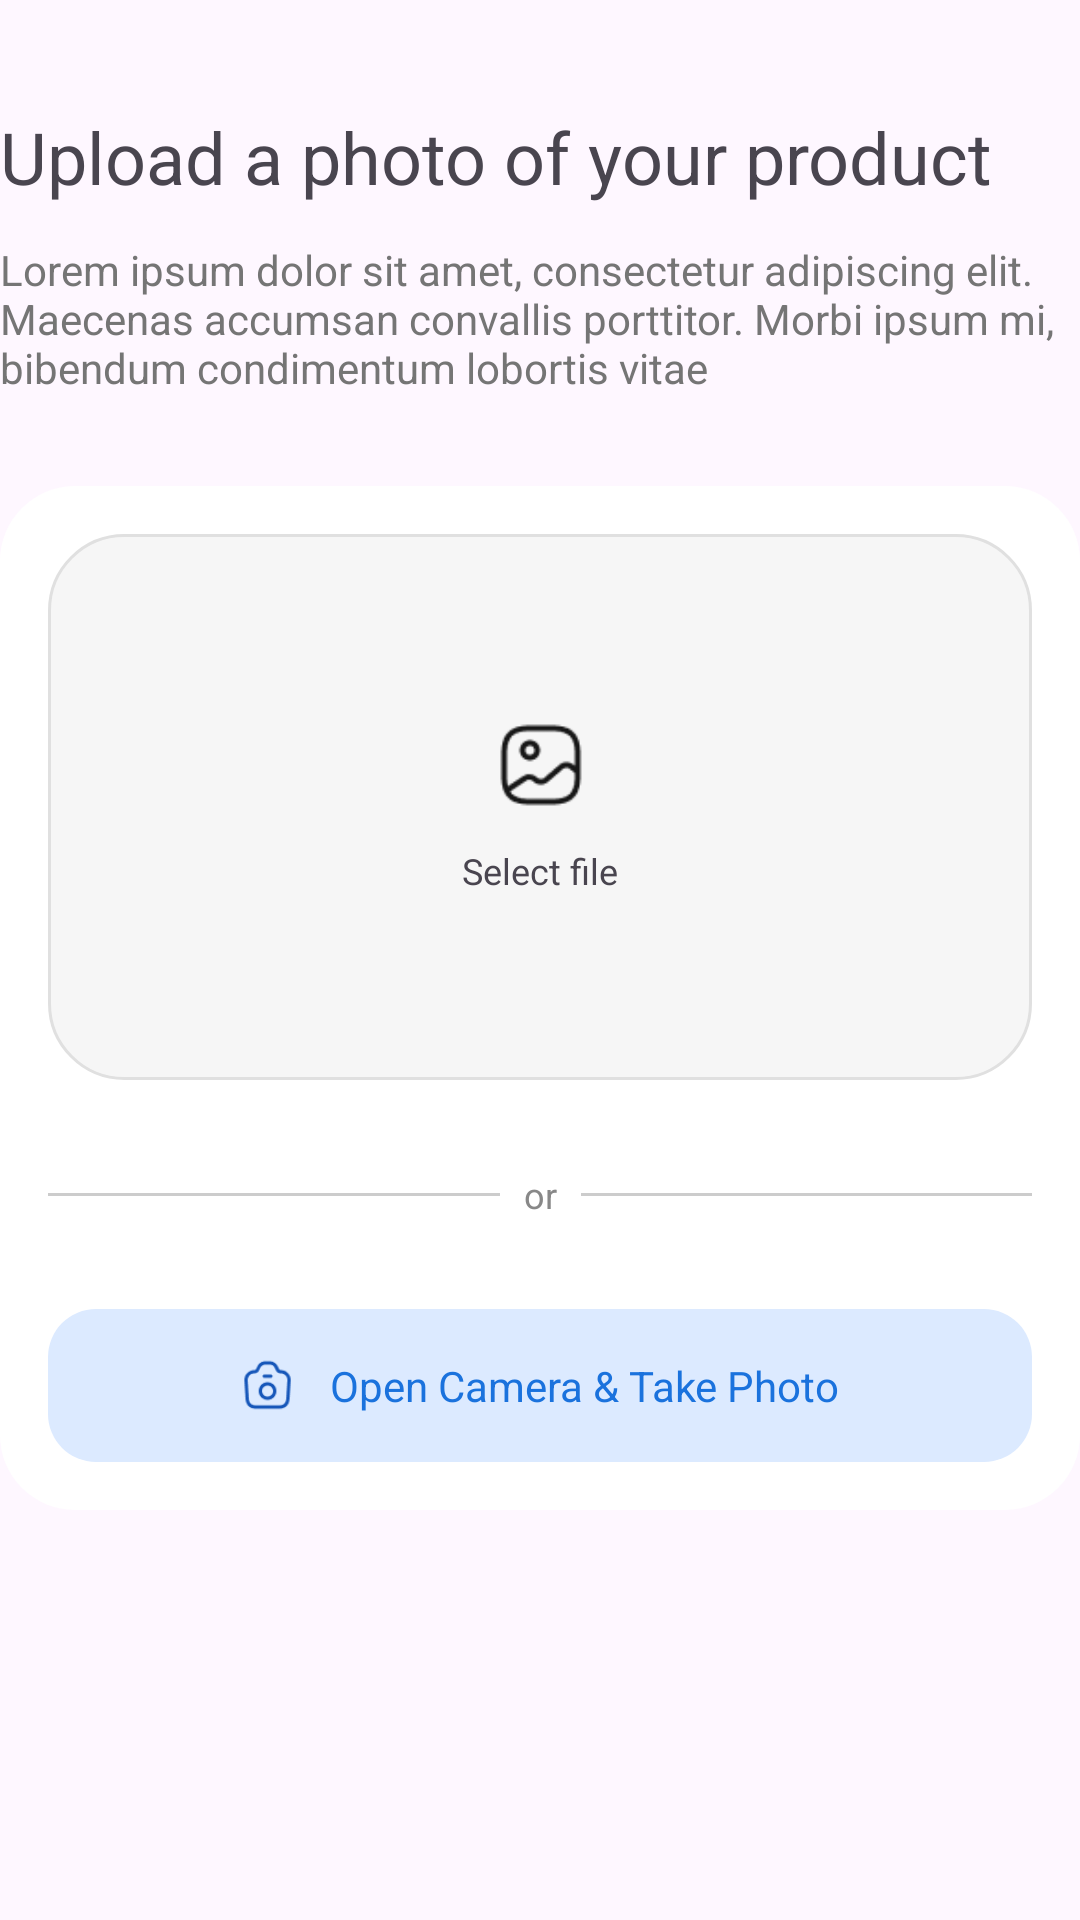

Named icons in this screenshot (1080×1920) and their centers, (x,y):
gallery: (541,765)
